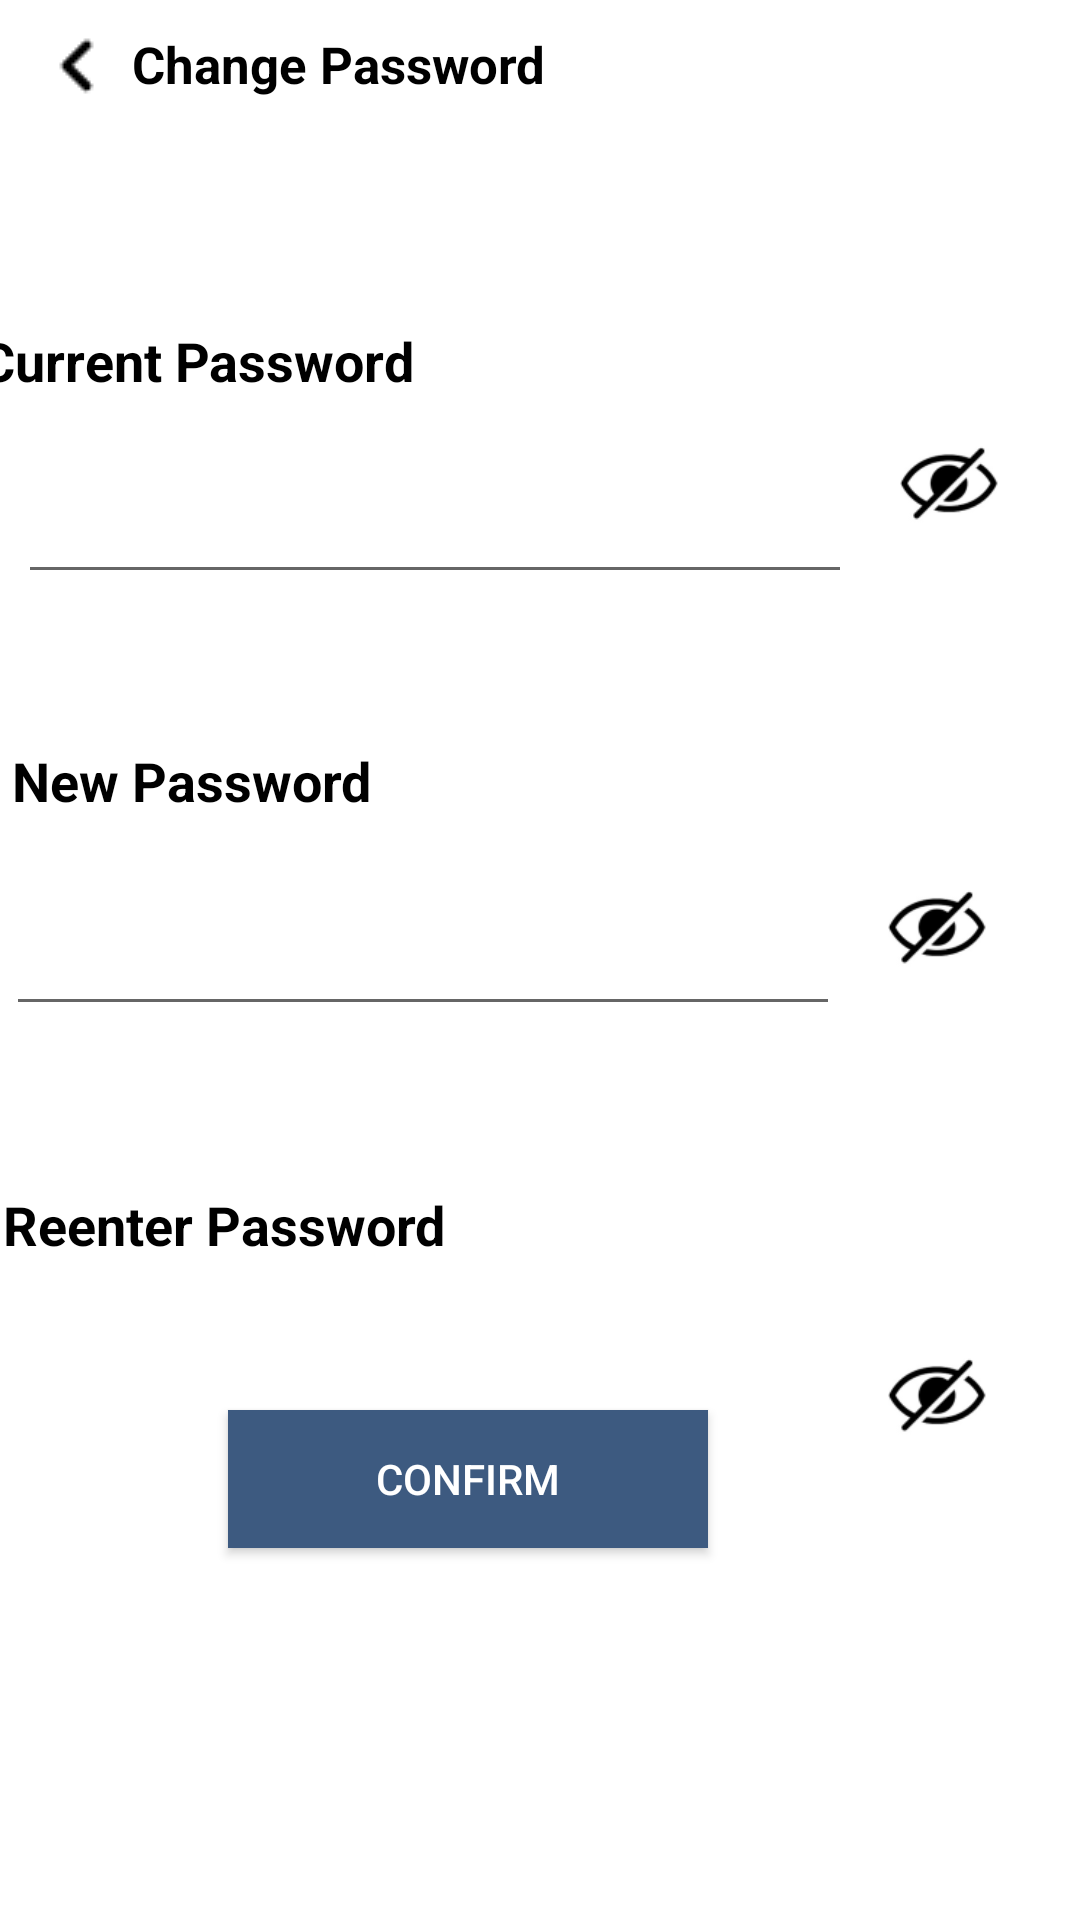

Locate icon controls on the screen. Image size 1080×1920, boxes as rect(x1, y1, x2, y2).
hide pwd: rect(900, 448, 998, 520), rect(888, 892, 986, 964), rect(888, 1360, 986, 1432)
left: rect(59, 38, 94, 93)
